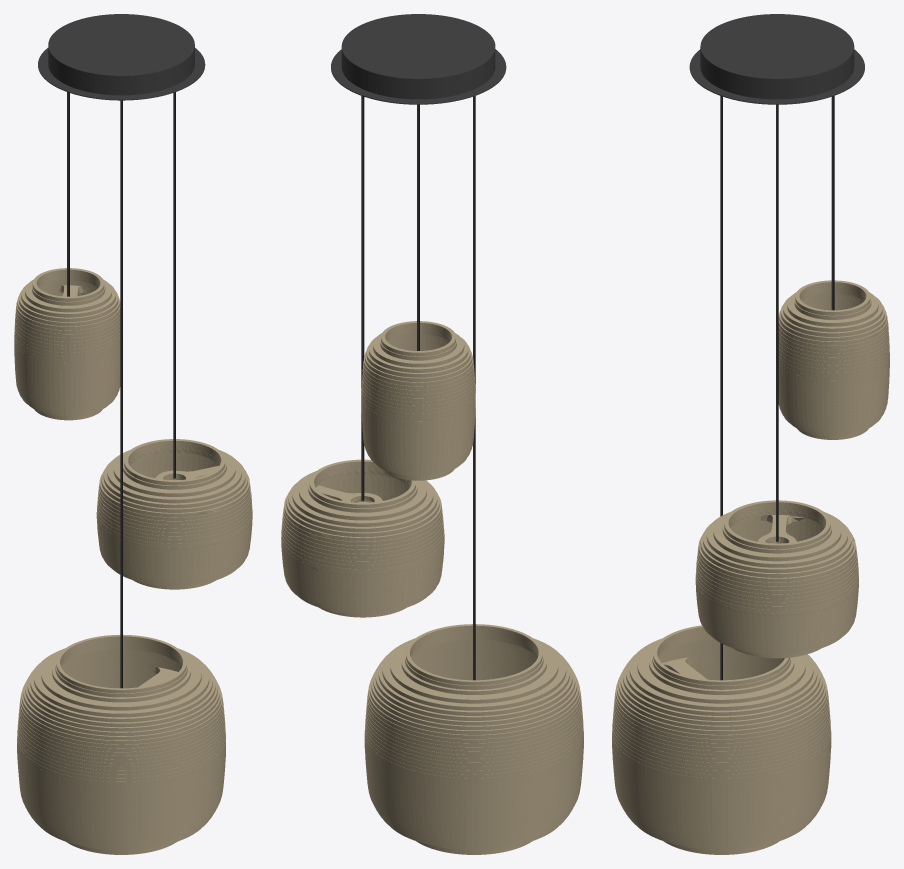
3 views of the same model, side by side, from view 1: azimuth 30°, elevation 25°; view 2: azimuth 150°, elevation 25°; view 3: azimuth 270°, elevation 25° (orthographic). The views are drawn at different scales.
Bounding box in the file's own units: 0.4923 × 1.5 × 0.4752.
